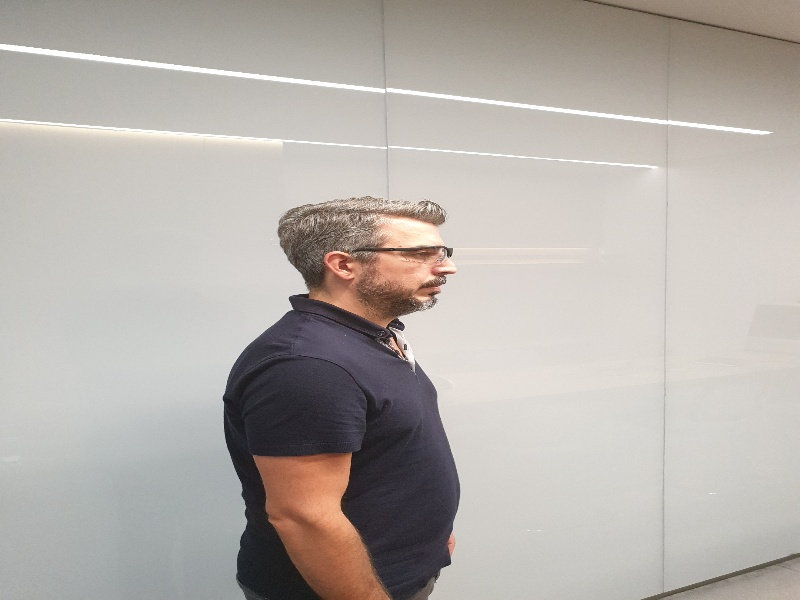Gozluk: (357, 245, 455, 261)
